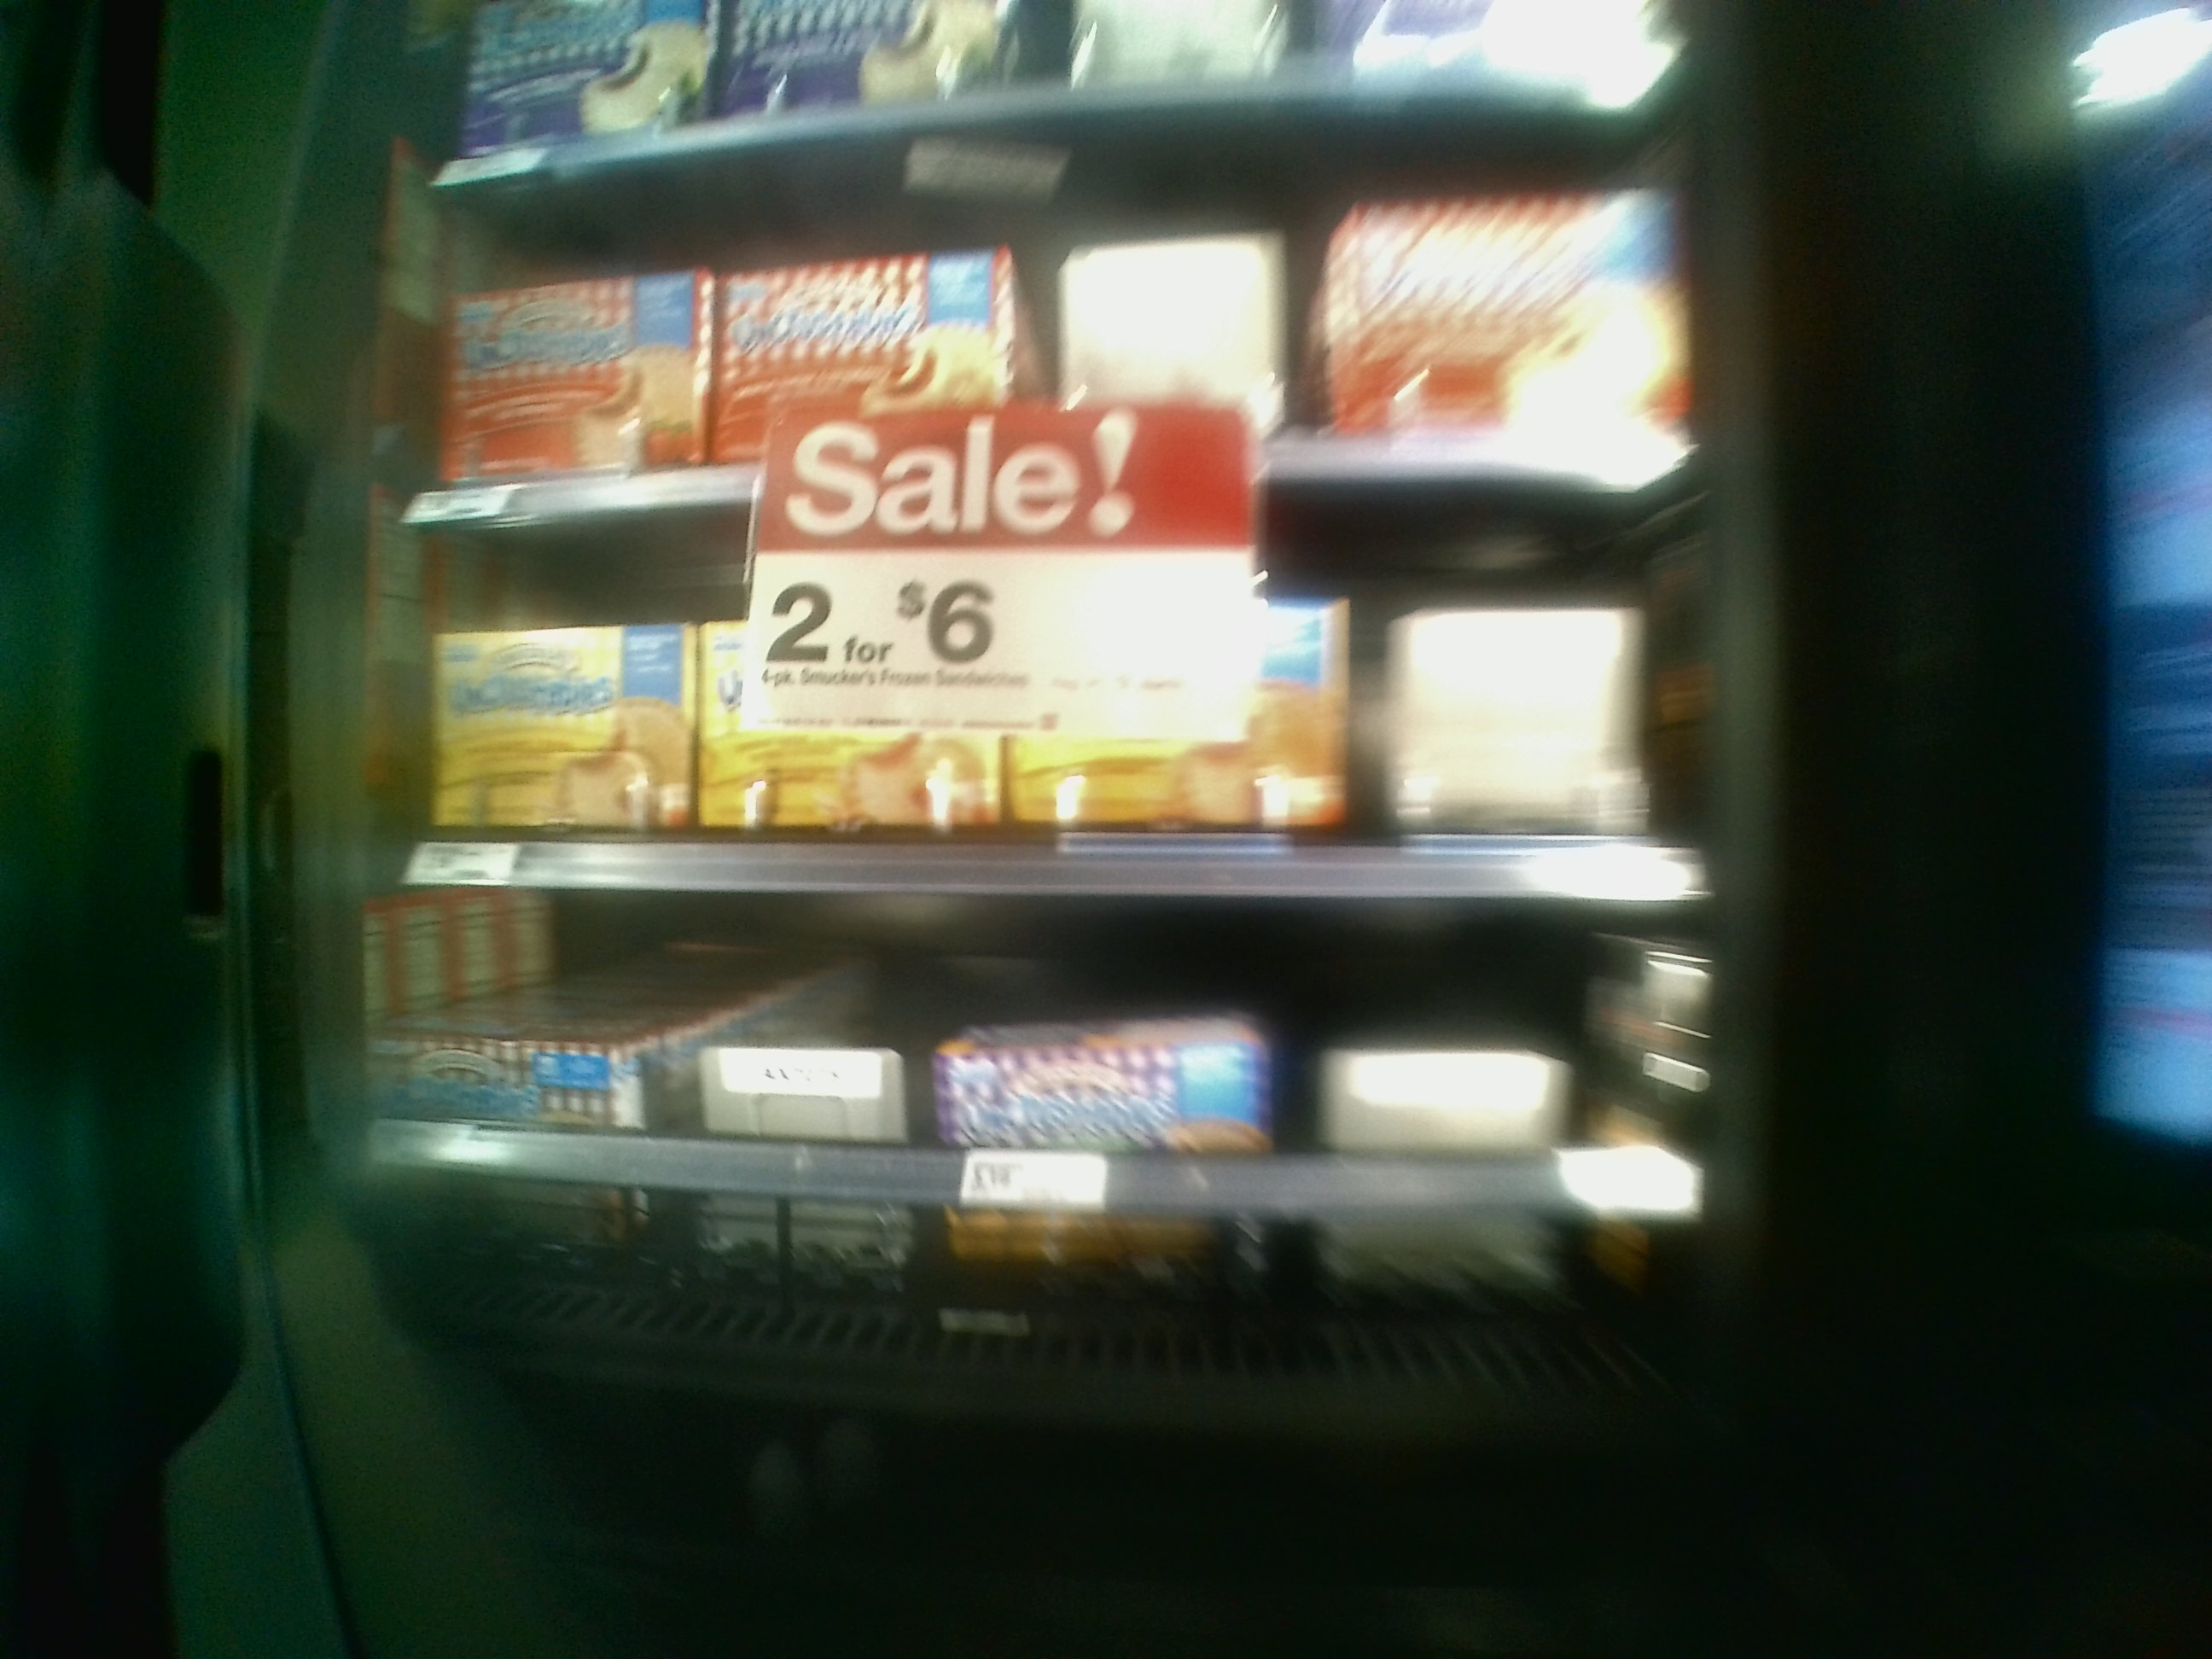shelf: (371, 887, 1726, 1364), (381, 518, 1703, 903)
